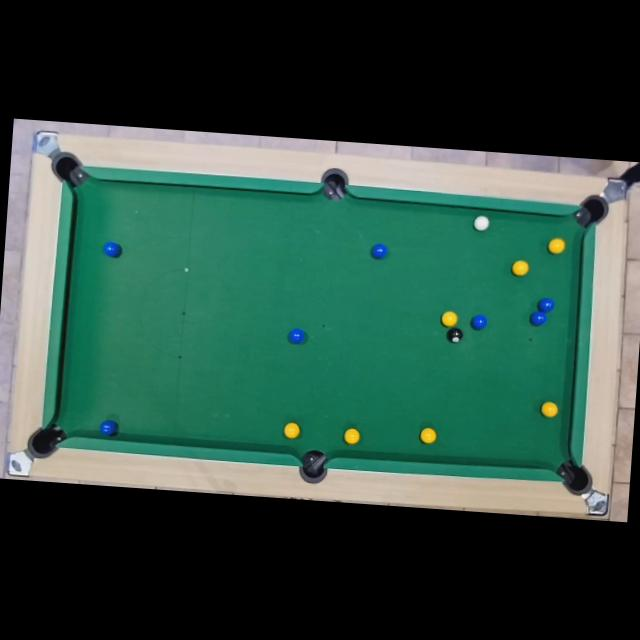Ball: (288, 328, 306, 346), (540, 400, 558, 418), (441, 310, 458, 328), (282, 422, 300, 439), (103, 242, 122, 258), (469, 314, 486, 331), (548, 238, 565, 255), (536, 296, 554, 312), (371, 242, 387, 260), (512, 258, 528, 276), (419, 428, 437, 444), (473, 214, 489, 232), (99, 421, 118, 436), (529, 310, 546, 326), (344, 427, 360, 444), (447, 327, 462, 344)
